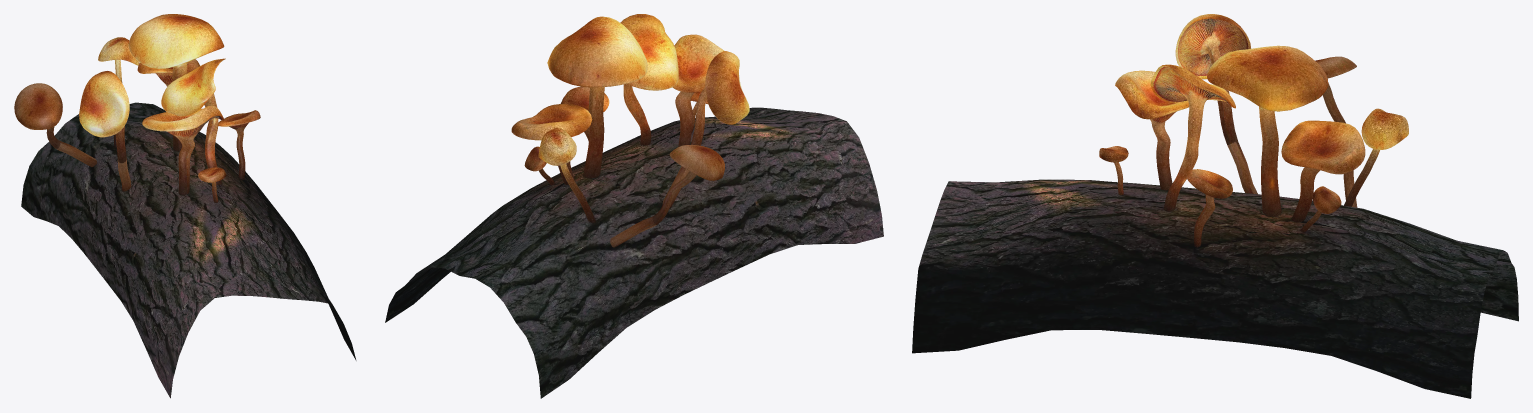
Rendered from veg_mushroom_on_tree_baked_l.glb.
3 renders of one model, left to right at view 1: azimuth 30°, elevation 25°; view 2: azimuth 150°, elevation 25°; view 3: azimuth 270°, elevation 25°, orthographic. The views are drawn at different scales.
Visible parts, largest first — view 1: branch_bark_01_0; view 2: branch_bark_01_0; view 3: branch_bark_01_0.
Part boxes in pixels (x1=…): branch_bark_01_0: x1=14, y1=14, x2=356, y2=398; branch_bark_01_0: x1=385, y1=14, x2=883, y2=398; branch_bark_01_0: x1=912, y1=14, x2=1518, y2=398.
Size of the model in its own units: 0.455 by 0.4377 by 0.8.
2 materials, 2 textured.
